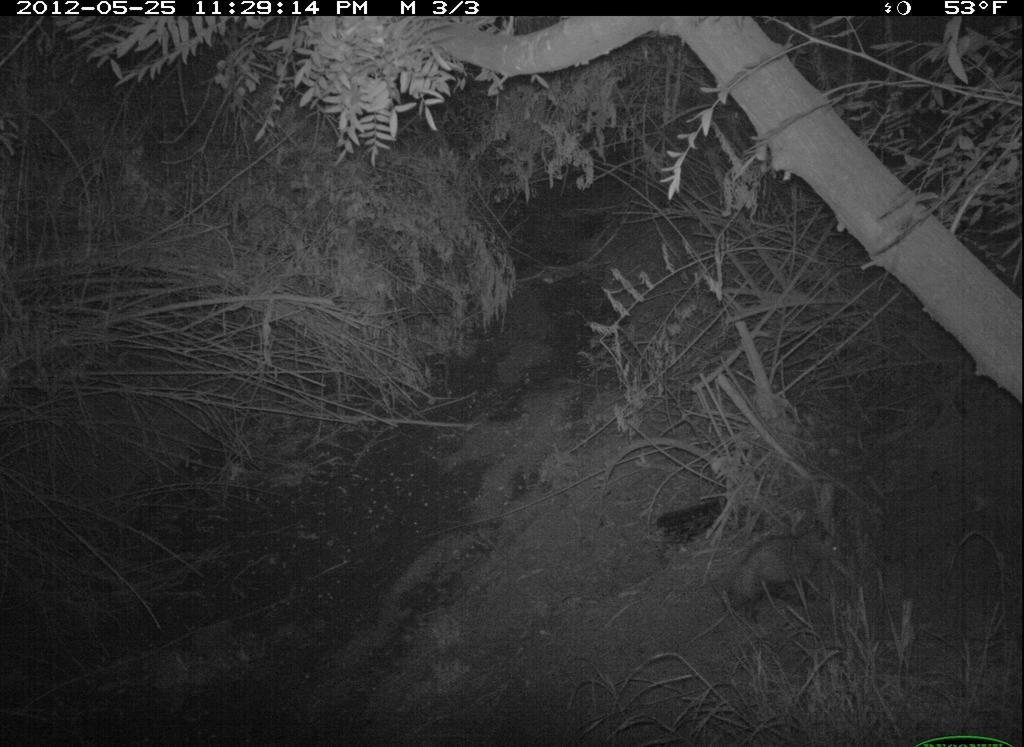opossum: (716, 510, 856, 623)
